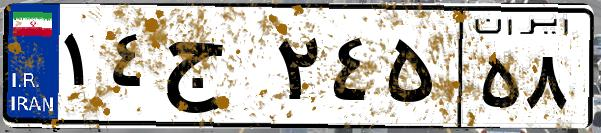1: (57, 26, 110, 100)
2: (270, 28, 330, 110)
4: (330, 28, 385, 110), (110, 28, 158, 98)
5: (385, 28, 445, 110), (475, 38, 525, 113)
8: (525, 38, 570, 115)
ج: (158, 20, 270, 120)
